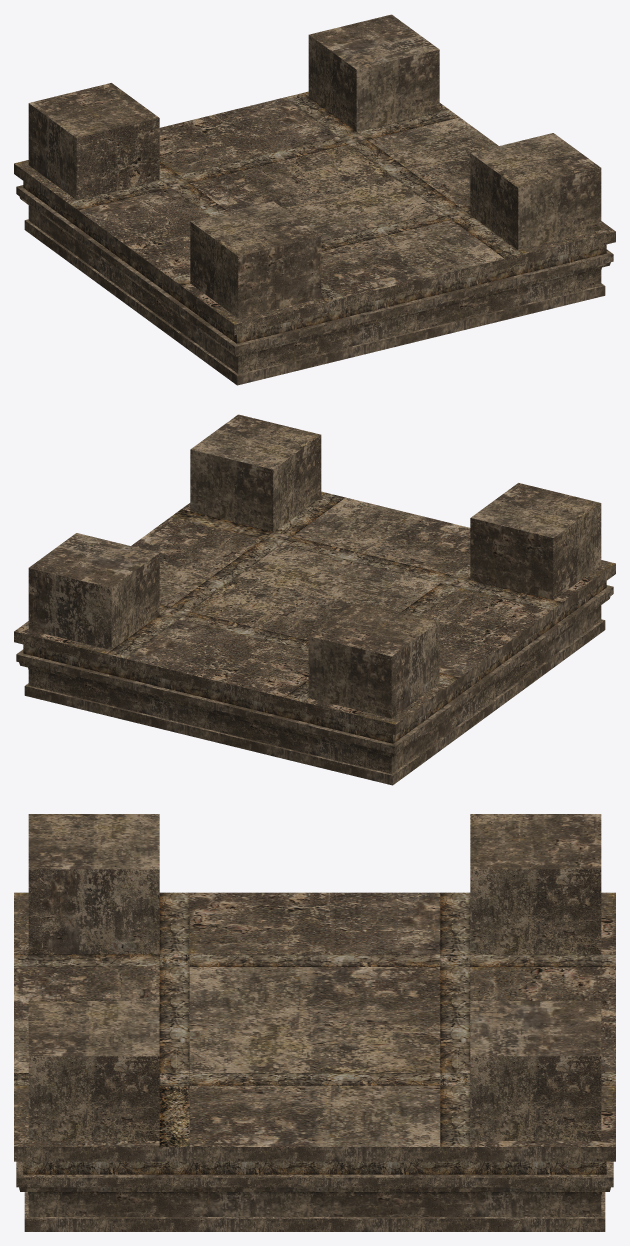
Rendered from materials_5_roof_2.fbx.
3 renders of one model, top to bottom at view 1: azimuth 30°, elevation 25°; view 2: azimuth 150°, elevation 25°; view 3: azimuth 270°, elevation 25°, orthographic. The views are drawn at different scales.
Parts seen in each view (by area): view 1: materials_5_roof_2; view 2: materials_5_roof_2; view 3: materials_5_roof_2.
Boxes of the visible parts, x1,y1,x2,y2 form: materials_5_roof_2: (14, 14, 615, 385); materials_5_roof_2: (14, 414, 615, 785); materials_5_roof_2: (14, 814, 615, 1231).
Size of the model in its own units: 631 by 201 by 631.
